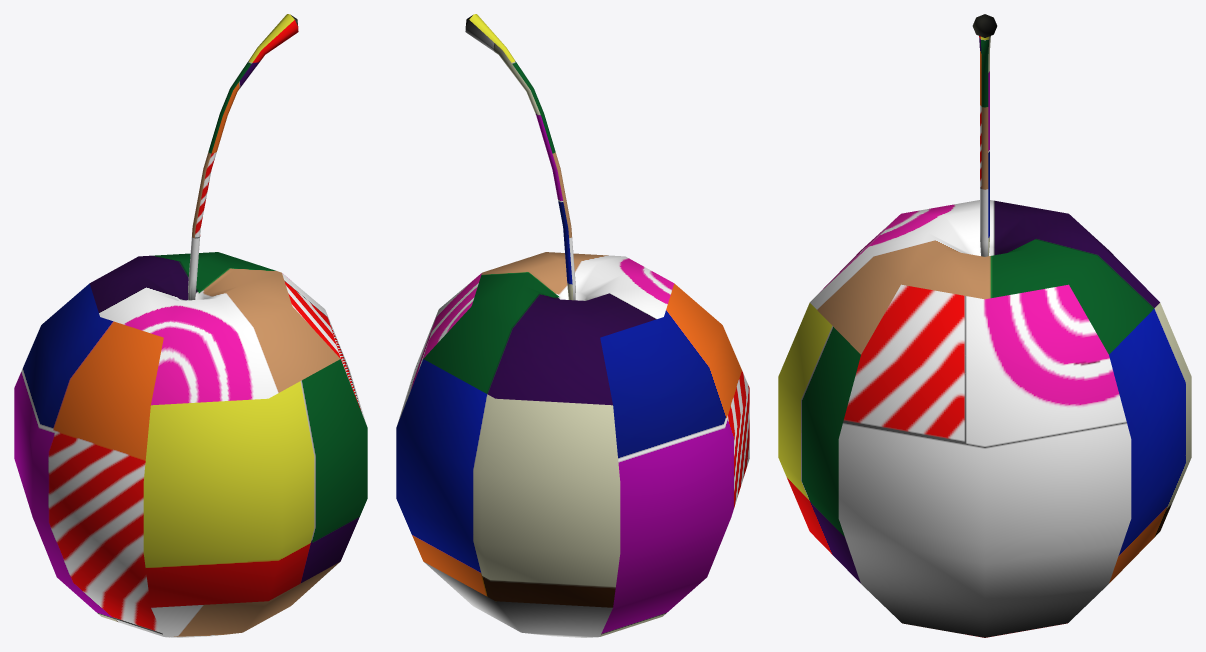
File: big cherry mp.fbx
The picture shows the model from 3 angles, left to right: view 1: azimuth 30°, elevation 25°; view 2: azimuth 150°, elevation 25°; view 3: azimuth 270°, elevation 25°; orthographic projection. The views are drawn at different scales.
Parts seen in each view (by area): view 1: ciliegia_big_mp, pistillo_mp; view 2: ciliegia_big_mp, pistillo_mp; view 3: ciliegia_big_mp, pistillo_mp.
Boxes of the visible parts, x1=… form: ciliegia_big_mp: x1=14, y1=252, x2=367, y2=637; pistillo_mp: x1=188, y1=14, x2=298, y2=300; ciliegia_big_mp: x1=396, y1=252, x2=749, y2=637; pistillo_mp: x1=465, y1=14, x2=575, y2=300; ciliegia_big_mp: x1=778, y1=200, x2=1191, y2=637; pistillo_mp: x1=972, y1=14, x2=997, y2=256.
Bounding box in the file's own units: 1.1 × 1.95 × 1.1.
